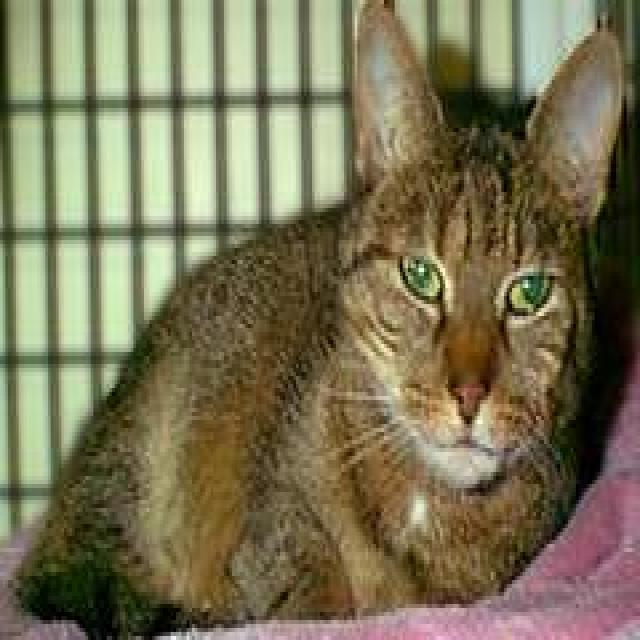Cat: (339, 0, 629, 480)
